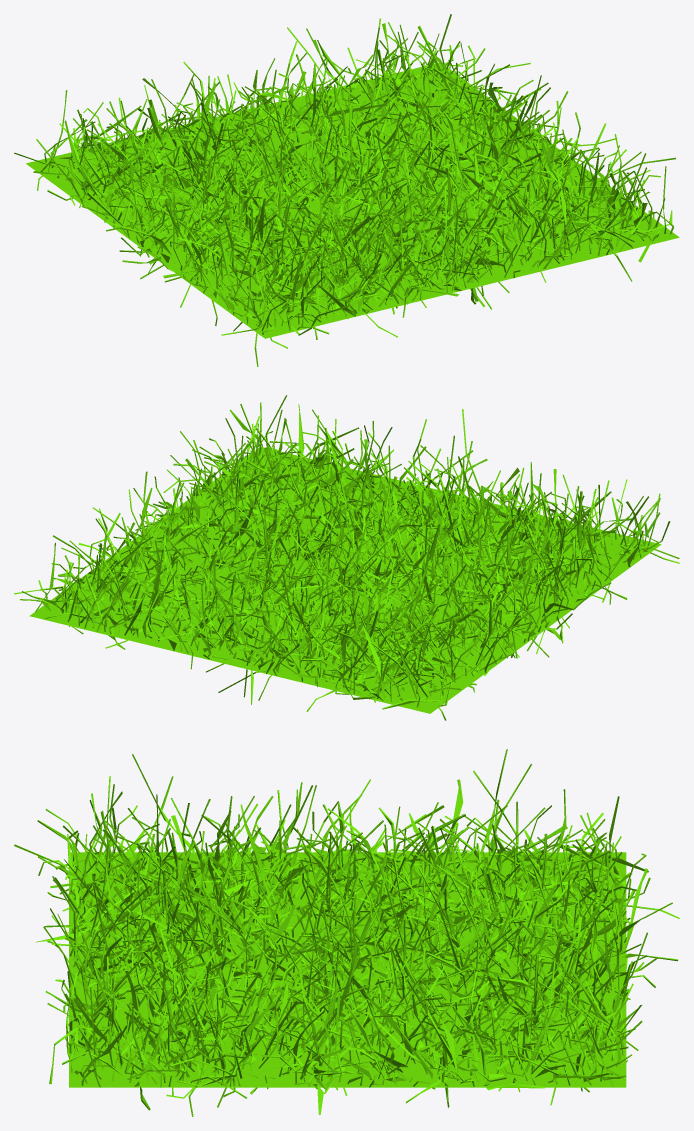
File: tile.glb
3 views of the same model, one above another, from view 1: azimuth 30°, elevation 25°; view 2: azimuth 150°, elevation 25°; view 3: azimuth 270°, elevation 25° (orthographic). The views are drawn at different scales.
Parts seen in each view (by area): view 1: Plane; view 2: Plane; view 3: Plane.
Boxes of the visible parts, x1,y1,x2,y2 form: Plane: (14, 14, 679, 366); Plane: (14, 395, 679, 720); Plane: (14, 749, 679, 1116).
Bounding box in the file's own units: 4.72 × 1.12 × 4.75.
